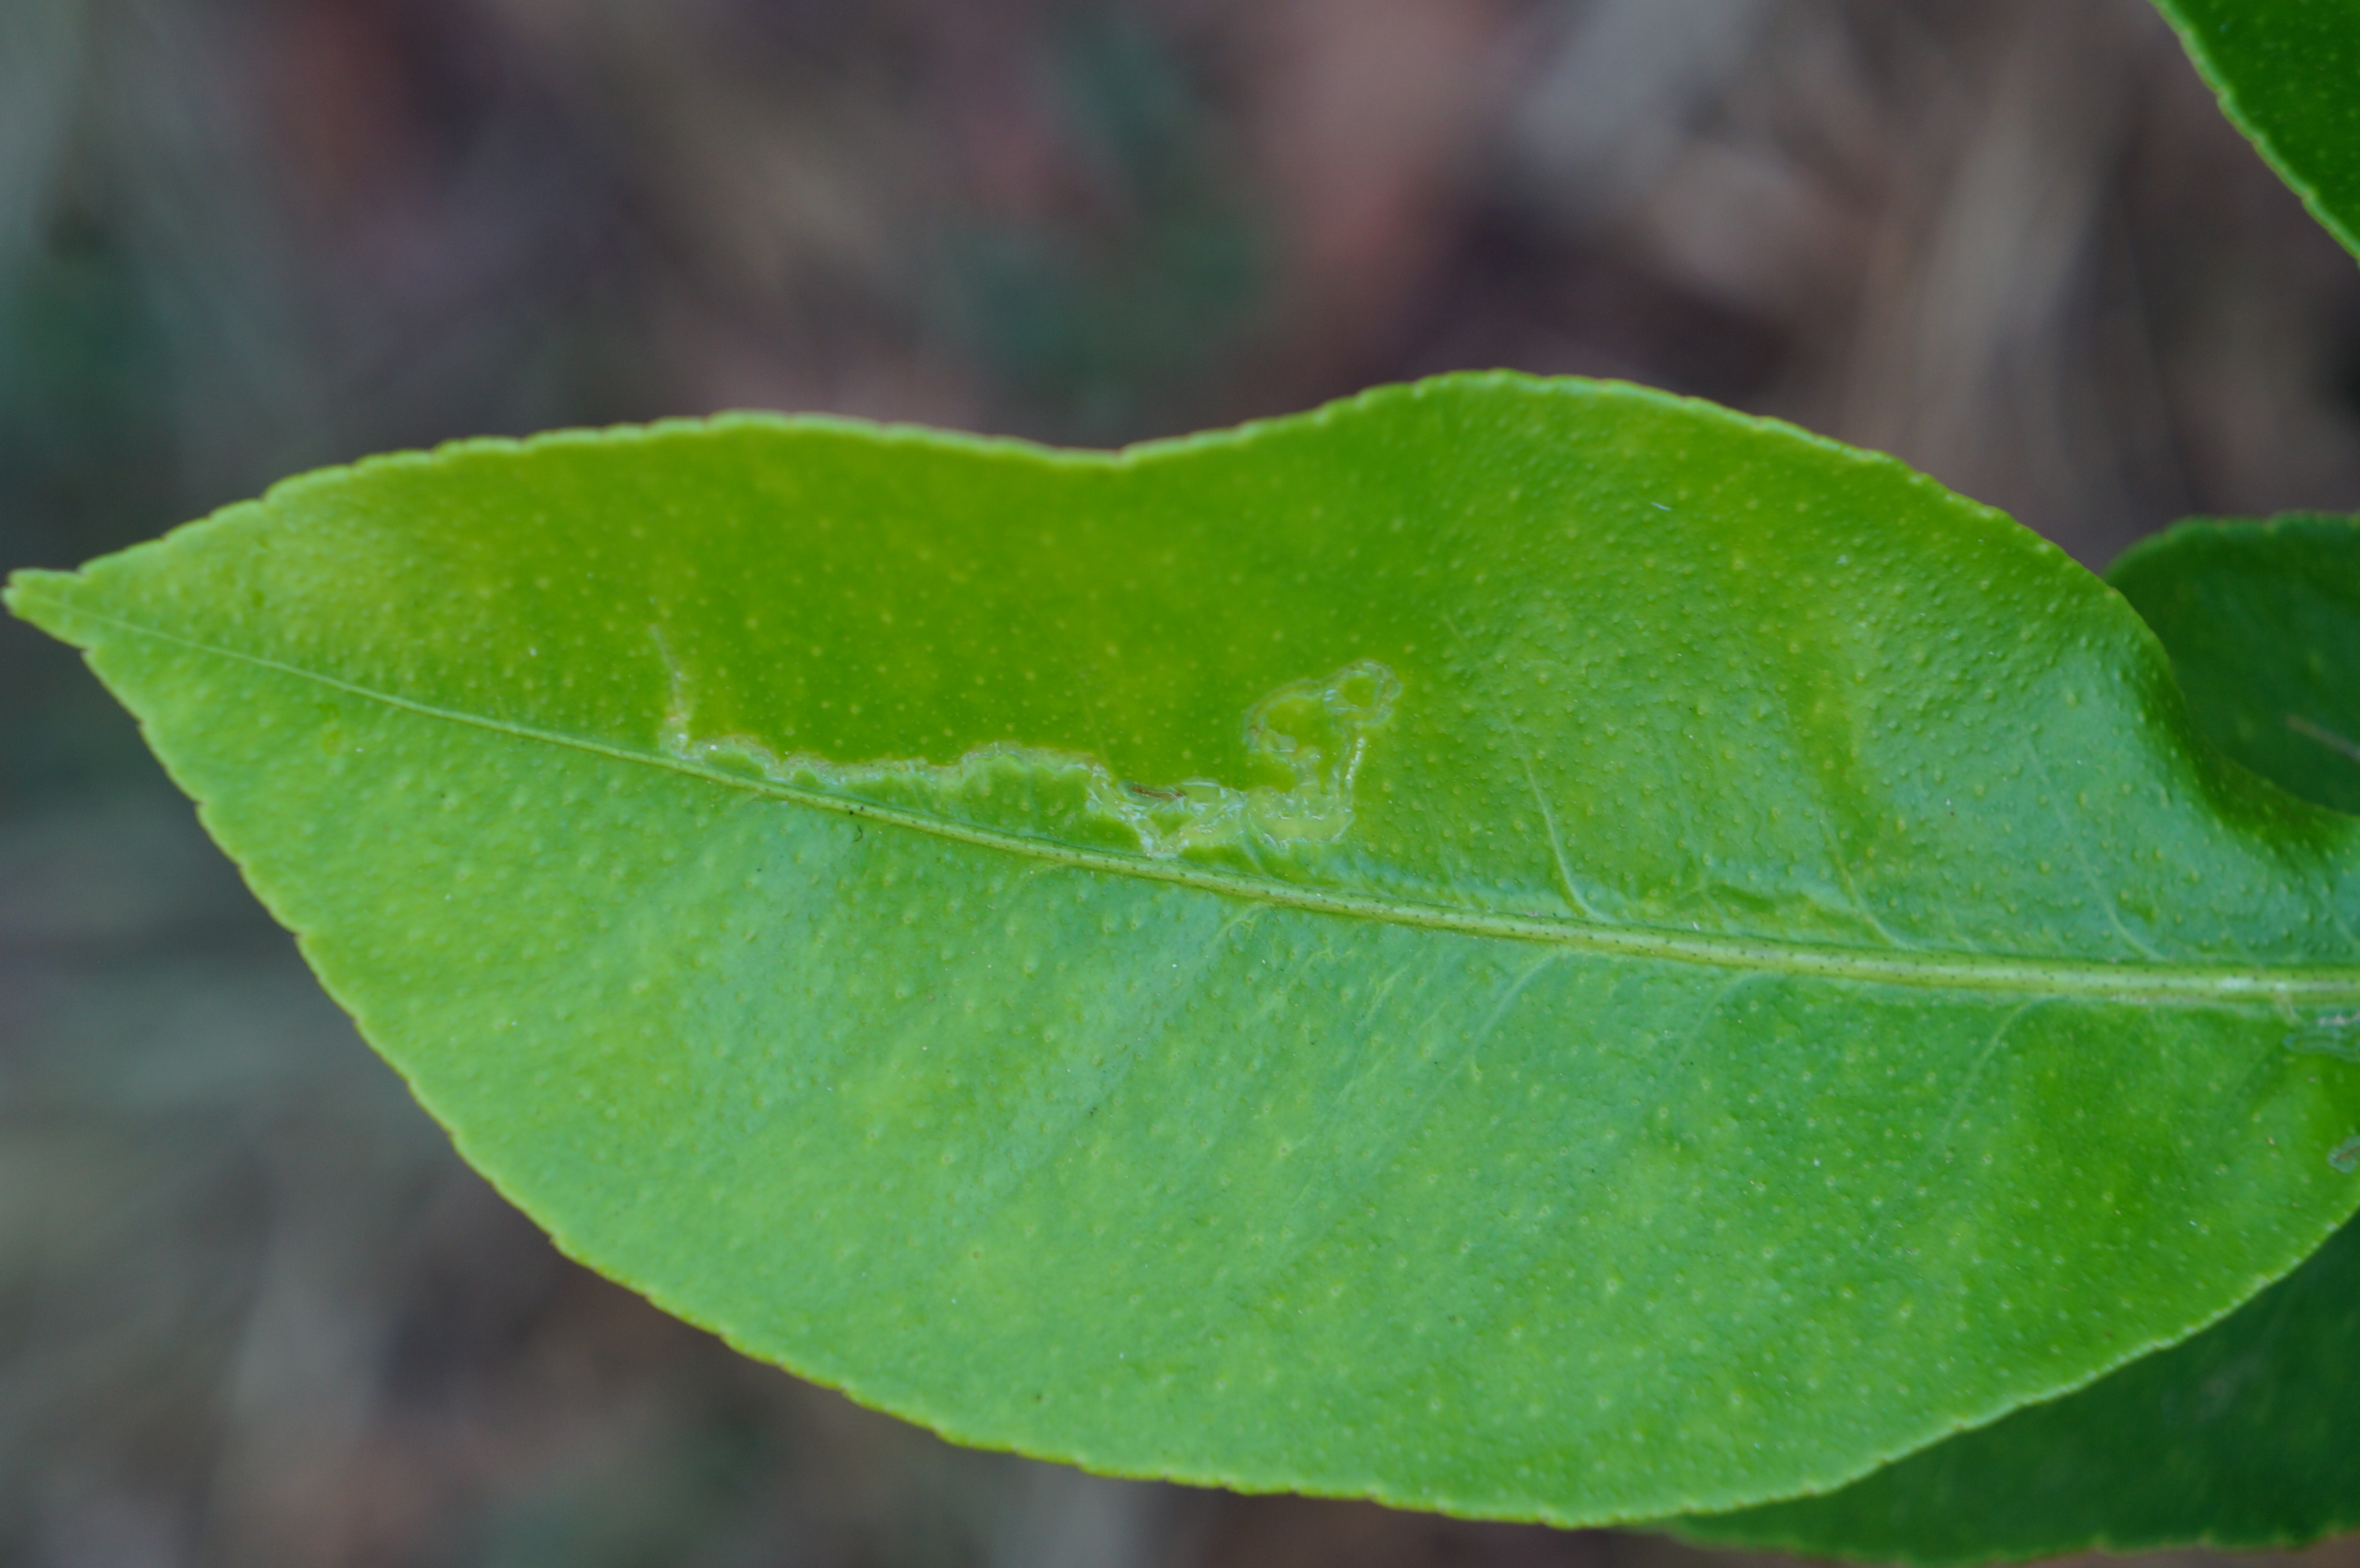damage: (618, 623, 1429, 870)
